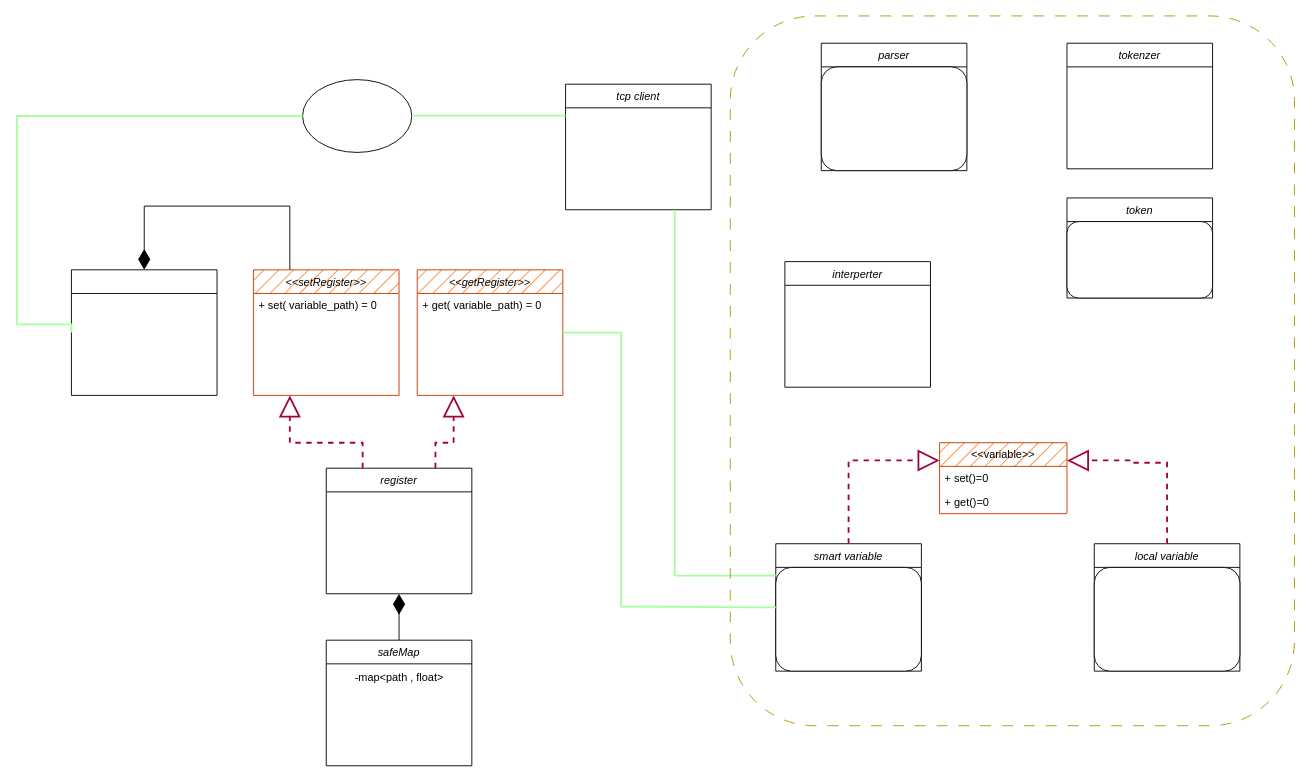
Image size: 1310x782. Some labels were removed from this diagram. Each missing label, with the centre of its shape:
"- m_variable_name - m_variable_path" goes at (x=848, y=618).
"- m_variable_type - m_variable_name" goes at (x=1166, y=618).
"-map <variable_name , variable_object>" goes at (x=893, y=118).
"enum_type string" goes at (x=1139, y=259).
"simulator flightGear" goes at (x=357, y=115).
"tcp server" goes at (x=144, y=332).
